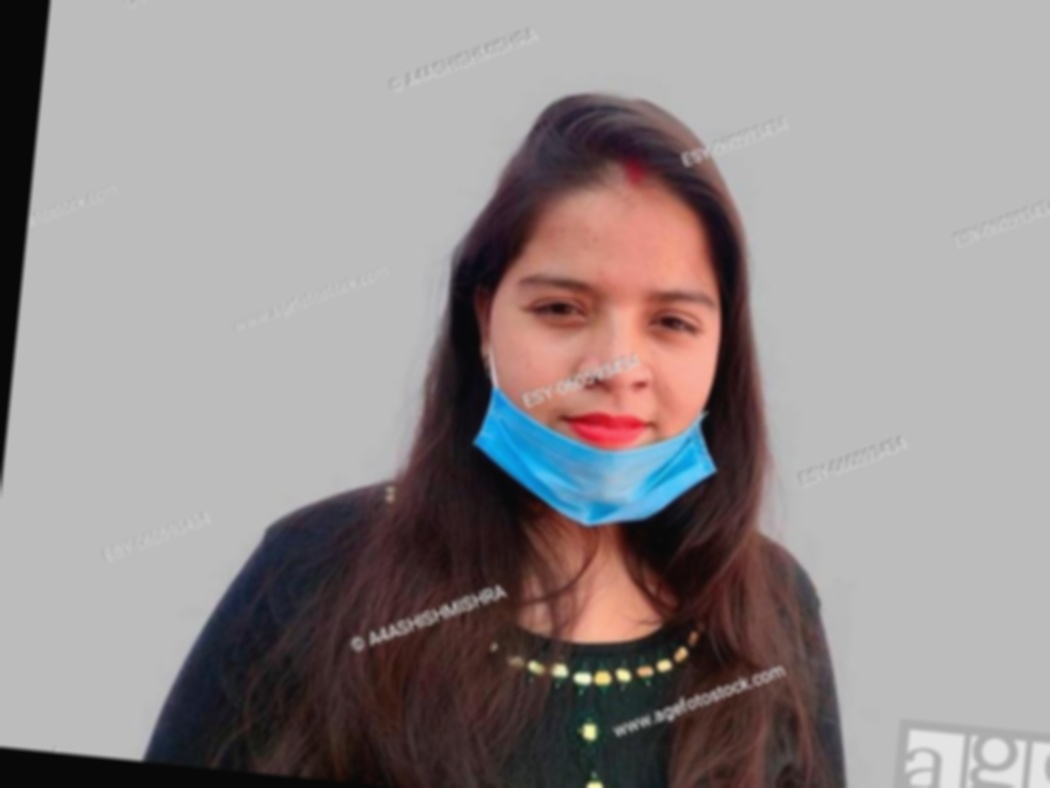mask_weared_incorrect: (463, 126, 746, 515)
